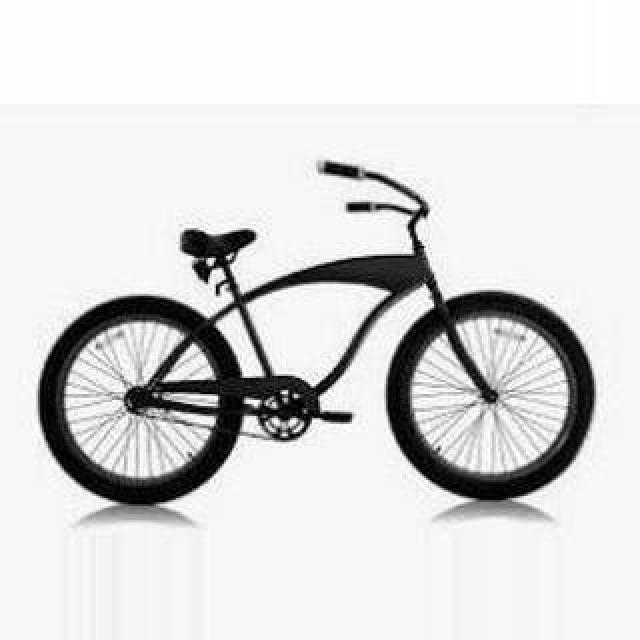Person: (31, 153, 597, 517)
